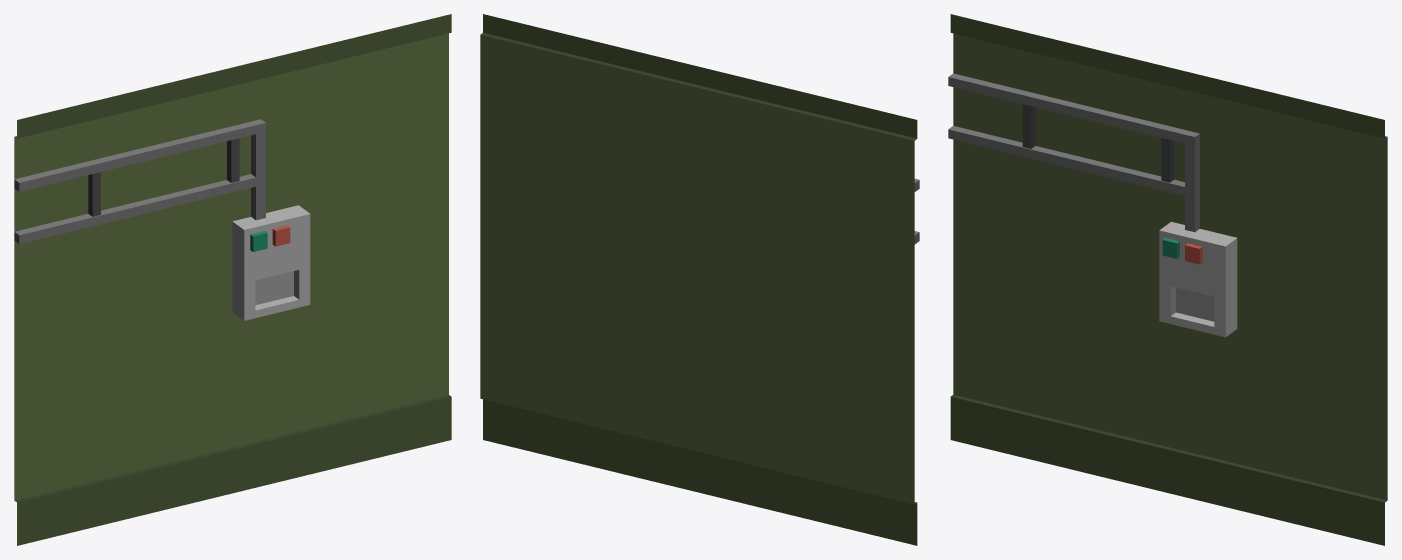
The model's file is AI_Env_Wall_Green_Electronics_End.fbx.
3 renders of one model, left to right at view 1: azimuth 30°, elevation 25°; view 2: azimuth 150°, elevation 25°; view 3: azimuth 330°, elevation 25°, orthographic.
Visible parts, largest first — view 1: AI_Env_Wall_Green_Electronics_End; view 2: AI_Env_Wall_Green_Electronics_End; view 3: AI_Env_Wall_Green_Electronics_End.
Part boxes in pixels (x1=…): AI_Env_Wall_Green_Electronics_End: x1=14, y1=14, x2=451, y2=545; AI_Env_Wall_Green_Electronics_End: x1=480, y1=14, x2=919, y2=545; AI_Env_Wall_Green_Electronics_End: x1=948, y1=14, x2=1387, y2=545.
Size of the model in its own units: 5 by 4.69 by 0.2941.
